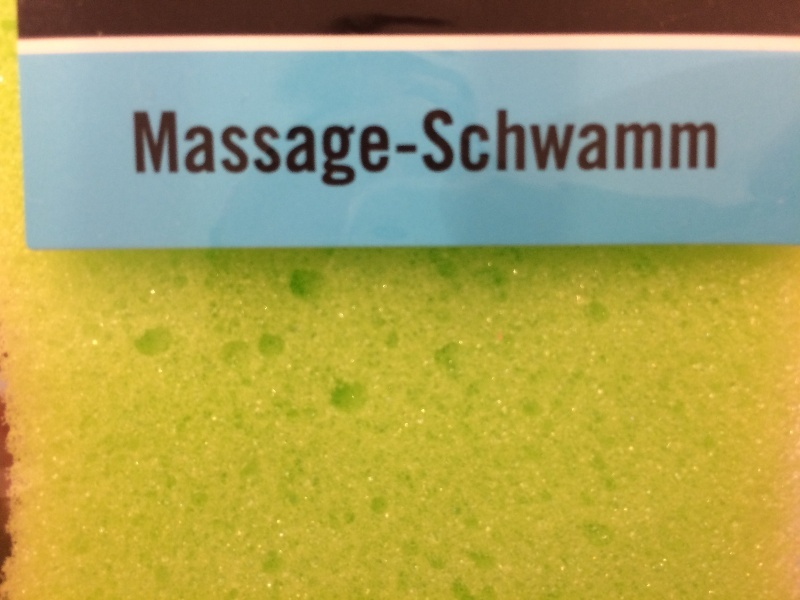text: (145, 109, 160, 192), (161, 109, 176, 192), (177, 109, 192, 192), (193, 109, 208, 192), (209, 109, 224, 192), (225, 109, 240, 192), (241, 109, 256, 192), (257, 109, 272, 192), (273, 109, 288, 192), (289, 109, 304, 192), (305, 109, 320, 192), (321, 109, 336, 192), (337, 109, 352, 192), (353, 109, 368, 192), (369, 109, 384, 192), (385, 109, 400, 192), (401, 109, 416, 192), (417, 109, 432, 192), (433, 109, 448, 192), (449, 109, 464, 192), (465, 109, 480, 192), (481, 109, 496, 192), (497, 109, 512, 192), (513, 109, 528, 192), (529, 109, 544, 192), (545, 109, 560, 192), (561, 109, 576, 192), (577, 109, 592, 192), (593, 109, 608, 192), (609, 109, 624, 192), (625, 109, 640, 192), (641, 109, 656, 192), (657, 109, 672, 192), (673, 109, 688, 192), (689, 109, 704, 192), (705, 109, 719, 192), (133, 109, 144, 192)
